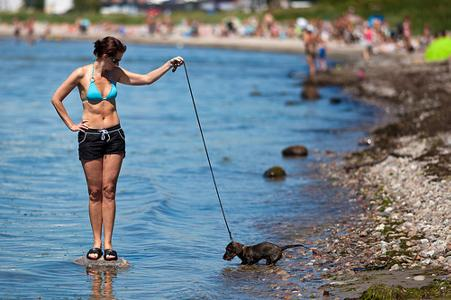person: (52, 36, 184, 260)
